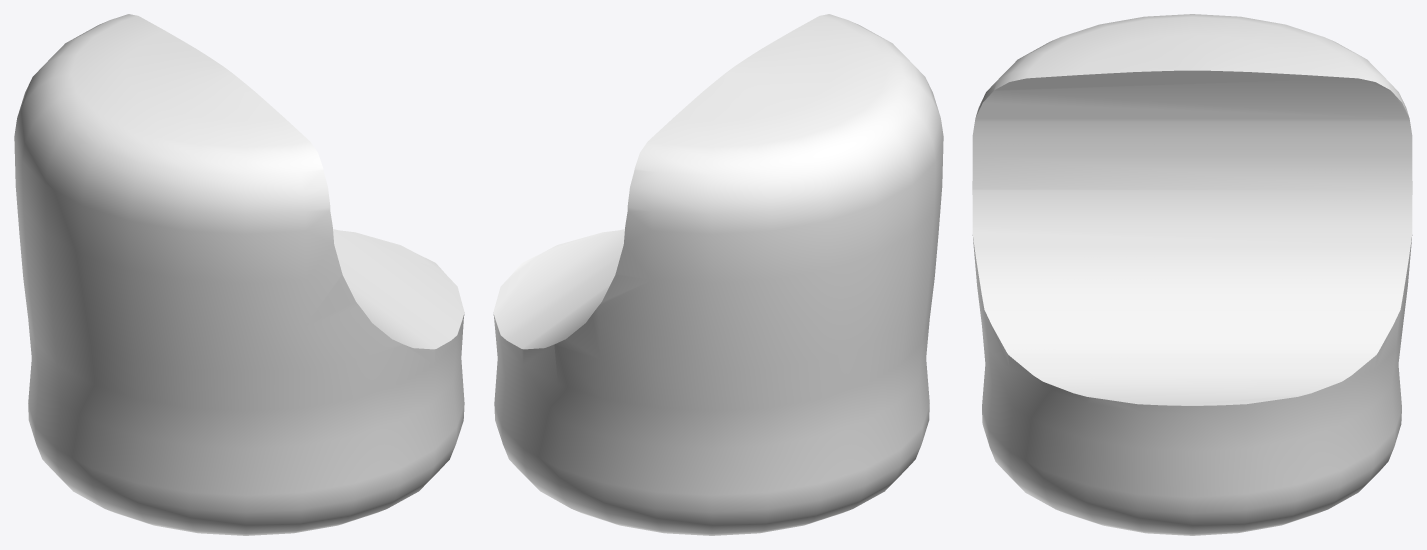
File: MM01_Blank_Bitten.fbx
3 views of the same model, side by side, from view 1: azimuth 30°, elevation 25°; view 2: azimuth 150°, elevation 25°; view 3: azimuth 270°, elevation 25° (orthographic). The views are drawn at different scales.
Parts seen in each view (by area): view 1: Body, Cylinder; view 2: Body, Cylinder; view 3: Cylinder, Body.
Boxes of the visible parts, box(x1,y1,x2,y2) form: Body: box(14, 14, 464, 535); Cylinder: box(333, 229, 464, 349); Body: box(493, 14, 943, 535); Cylinder: box(493, 229, 624, 349); Cylinder: box(972, 70, 1412, 405); Body: box(972, 14, 1412, 535).
Size of the model in its own units: 19.98 by 19.57 by 20.15.
